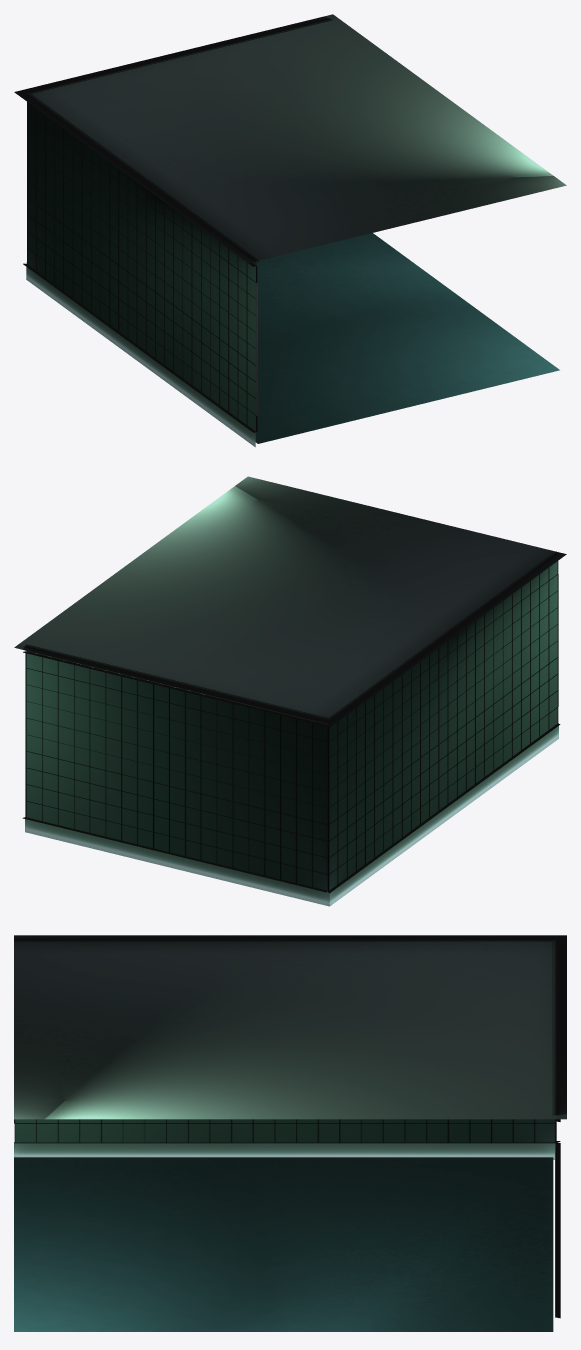
File: room-transformed.glb
3 renders of one model, top to bottom at view 1: azimuth 30°, elevation 25°; view 2: azimuth 150°, elevation 25°; view 3: azimuth 270°, elevation 25°, orthographic. The views are drawn at different scales.
Visible parts, largest first — view 1: roof.004_Baked, floor.003_Baked, walls.008_Baked, walls.007_Baked, floor walls.003_Baked, roof walls.003_Baked; view 2: roof.004_Baked, walls.006_Baked, walls.008_Baked, walls.007_Baked, floor walls.003_Baked, walls.009_Baked, roof walls.003_Baked; view 3: roof.004_Baked, floor.003_Baked, walls.008_Baked, floor walls.003_Baked, walls.007_Baked, walls.009_Baked, roof walls.003_Baked.
Boxes of the visible parts, x1=… form: roof.004_Baked: x1=14, y1=14, x2=566, y2=263; floor.003_Baked: x1=255, y1=233, x2=559, y2=443; walls.008_Baked: x1=27, y1=102, x2=255, y2=431; walls.007_Baked: x1=23, y1=102, x2=257, y2=432; floor walls.003_Baked: x1=26, y1=267, x2=255, y2=447; roof walls.003_Baked: x1=28, y1=19, x2=332, y2=265; roof.004_Baked: x1=14, y1=476, x2=566, y2=725; walls.006_Baked: x1=25, y1=653, x2=327, y2=890; walls.008_Baked: x1=329, y1=561, x2=557, y2=890; walls.007_Baked: x1=328, y1=561, x2=560, y2=893; floor walls.003_Baked: x1=25, y1=723, x2=558, y2=906; walls.009_Baked: x1=22, y1=651, x2=328, y2=892; roof walls.003_Baked: x1=25, y1=552, x2=557, y2=724; roof.004_Baked: x1=14, y1=935, x2=566, y2=1119; floor.003_Baked: x1=14, y1=1157, x2=553, y2=1331; walls.008_Baked: x1=15, y1=1119, x2=555, y2=1142; floor walls.003_Baked: x1=14, y1=1142, x2=556, y2=1317; walls.007_Baked: x1=14, y1=1119, x2=560, y2=1143; walls.009_Baked: x1=555, y1=1119, x2=560, y2=1318; roof walls.003_Baked: x1=14, y1=940, x2=554, y2=941.
Size of the model in its own units: 8.04 by 4.49 by 10.21.
8 materials, 8 textured.
